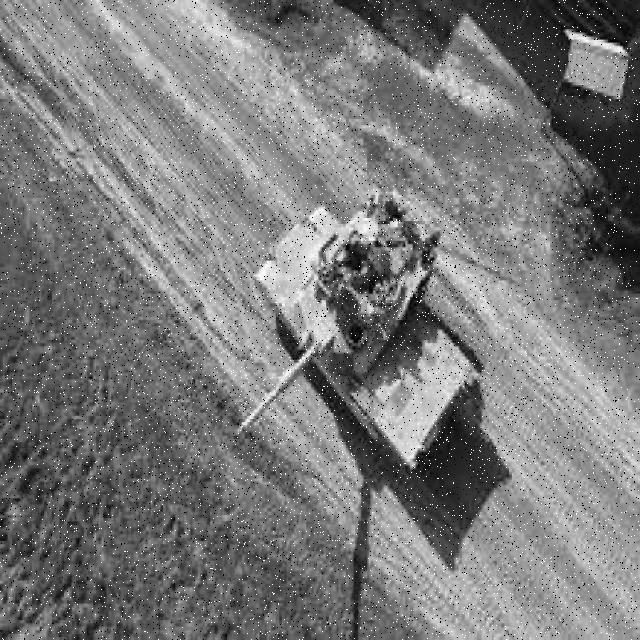MIL_MBT: (232, 181, 489, 482)
